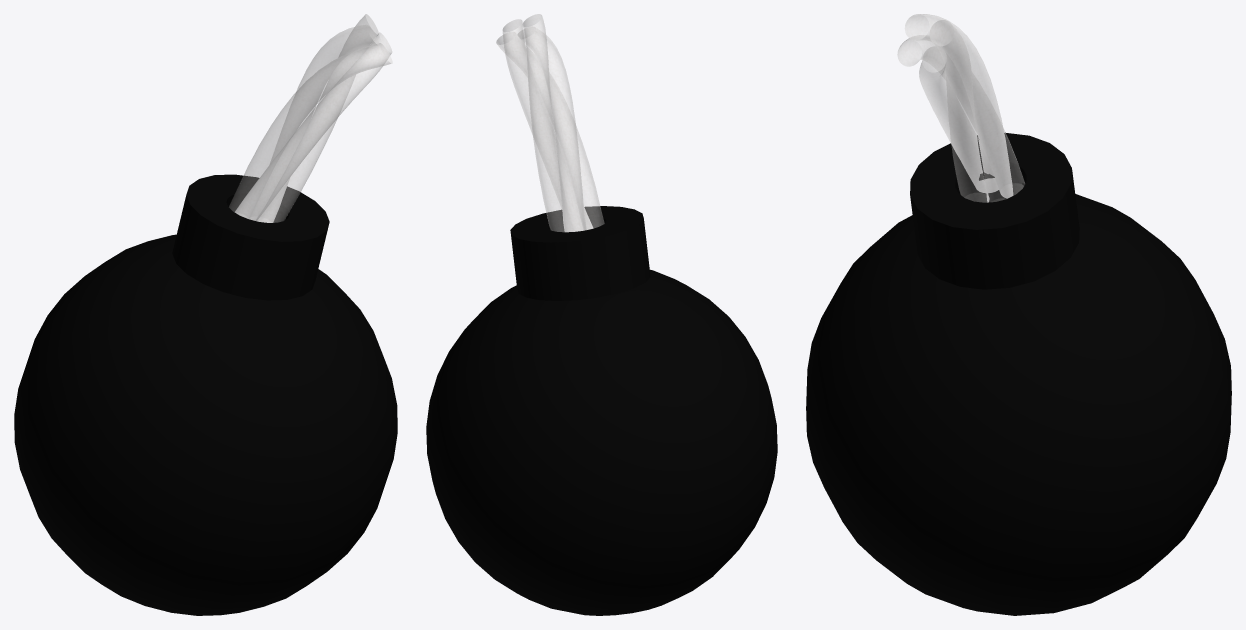
File: ammo_handbomb.glb
3 renders of one model, left to right at view 1: azimuth 30°, elevation 25°; view 2: azimuth 150°, elevation 25°; view 3: azimuth 270°, elevation 25°, orthographic. The views are drawn at different scales.
Visible parts, largest first — view 1: bomb; view 2: bomb; view 3: bomb.
Boxes of the visible parts, x1,y1,x2,y2 form: bomb: (14, 14, 397, 615); bomb: (426, 14, 777, 615); bomb: (806, 14, 1231, 615).
Bounding box in the file's own units: 1.19 × 1.99 × 1.19.
Materials: 2 (1 with a texture image).
